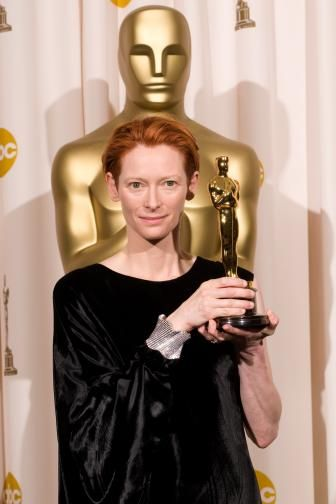hand: (174, 280, 248, 320)
